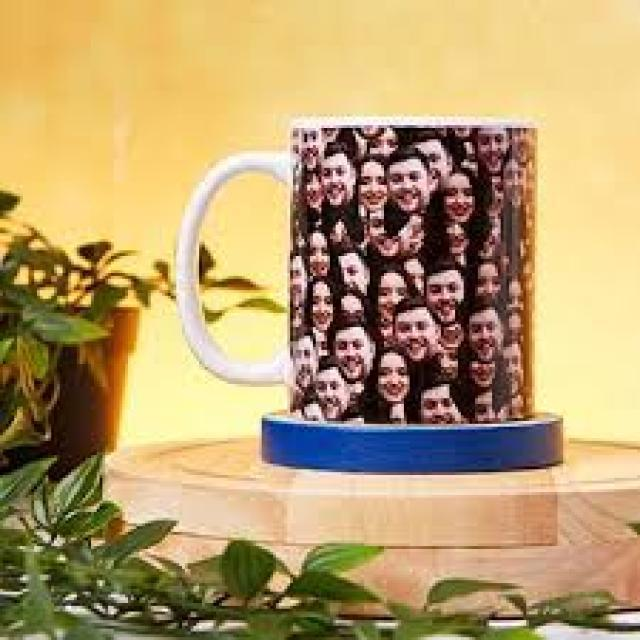taza: (162, 104, 564, 426)
